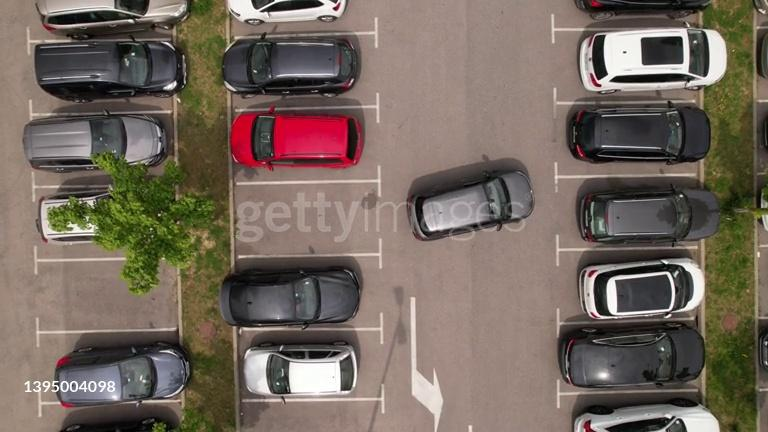car: (579, 26, 727, 93), (405, 165, 533, 239), (33, 39, 185, 101), (560, 324, 705, 387), (53, 342, 191, 407), (219, 266, 361, 327), (569, 104, 713, 163), (23, 113, 168, 171), (579, 184, 719, 243), (223, 36, 358, 96), (578, 255, 706, 318), (230, 119, 366, 177), (242, 341, 358, 396), (36, 0, 187, 37), (573, 398, 722, 431), (35, 188, 114, 241), (226, 0, 344, 25), (575, 0, 711, 20), (57, 415, 171, 431), (755, 29, 767, 79)
